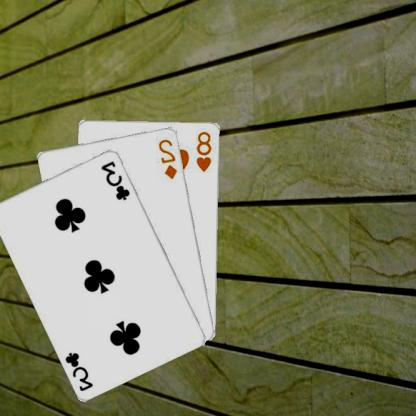2D: (158, 136, 181, 180)
3C: (100, 158, 133, 201), (64, 349, 96, 392)
8H: (196, 129, 216, 173)
